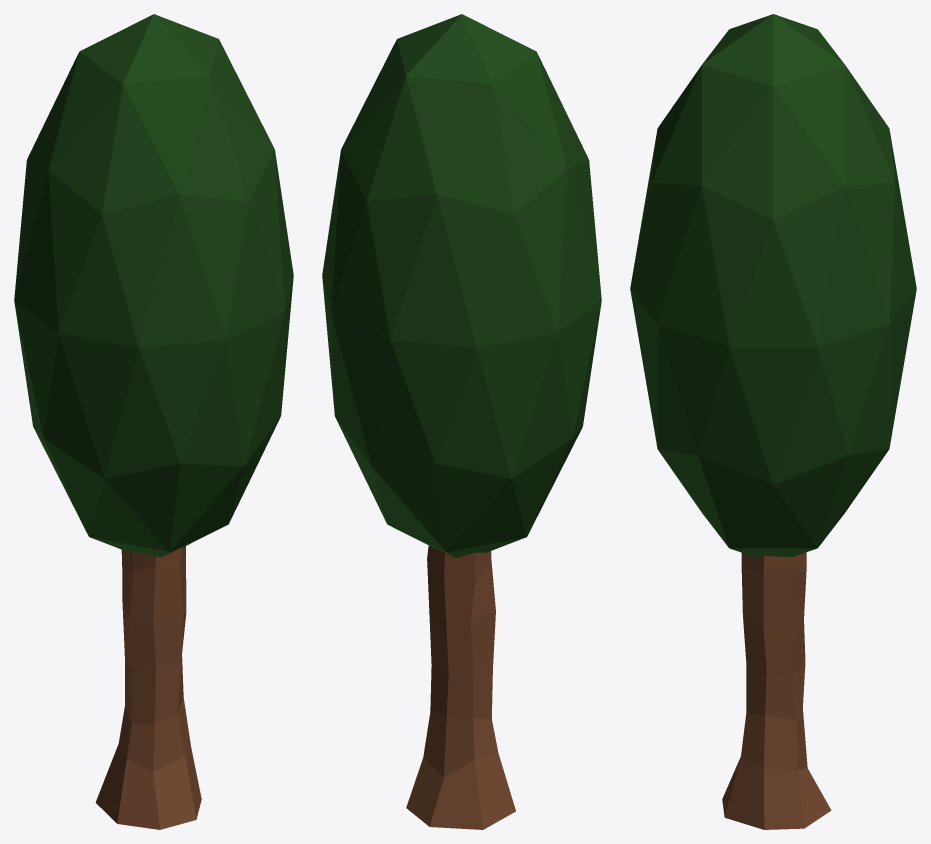
Rendered from Tree1.obj.
3 renders of one model, left to right at view 1: azimuth 30°, elevation 25°; view 2: azimuth 150°, elevation 25°; view 3: azimuth 270°, elevation 25°, orthographic.
Visible parts, largest first — view 1: drzewo.006; view 2: drzewo.006; view 3: drzewo.006.
Boxes of the visible parts, x1,y1,x2,y2 form: drzewo.006: (14, 14, 293, 829); drzewo.006: (322, 14, 601, 829); drzewo.006: (630, 14, 916, 829).
Bounding box in the file's own units: 2.52 × 8.1 × 2.65.
